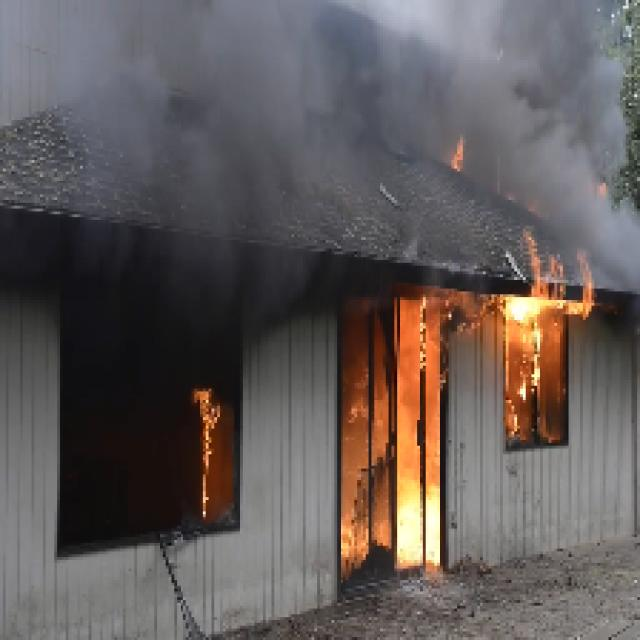smoke: (105, 2, 615, 178)
